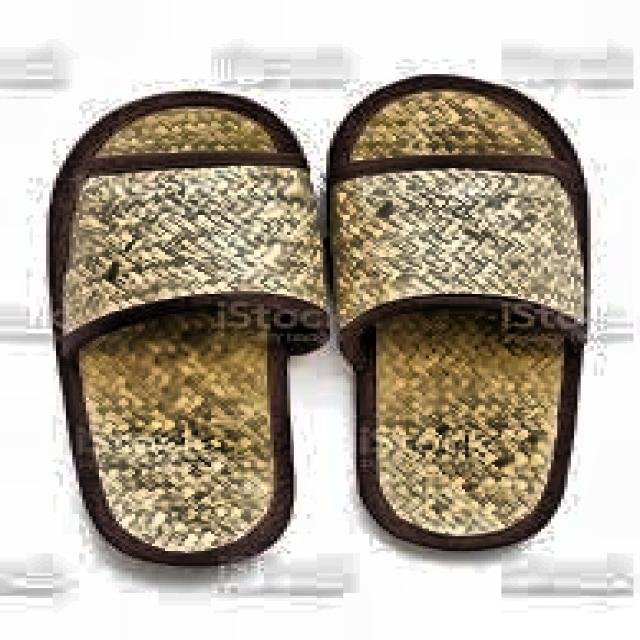shoes: (33, 63, 595, 572)
